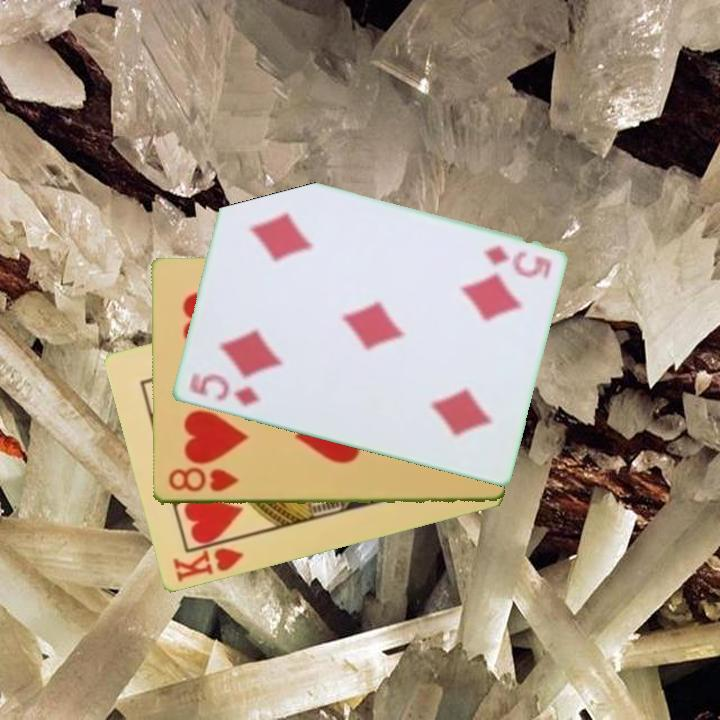5d: (184, 370, 263, 410), (478, 242, 546, 279)
8h: (164, 466, 241, 495)
Kh: (169, 534, 247, 585)
